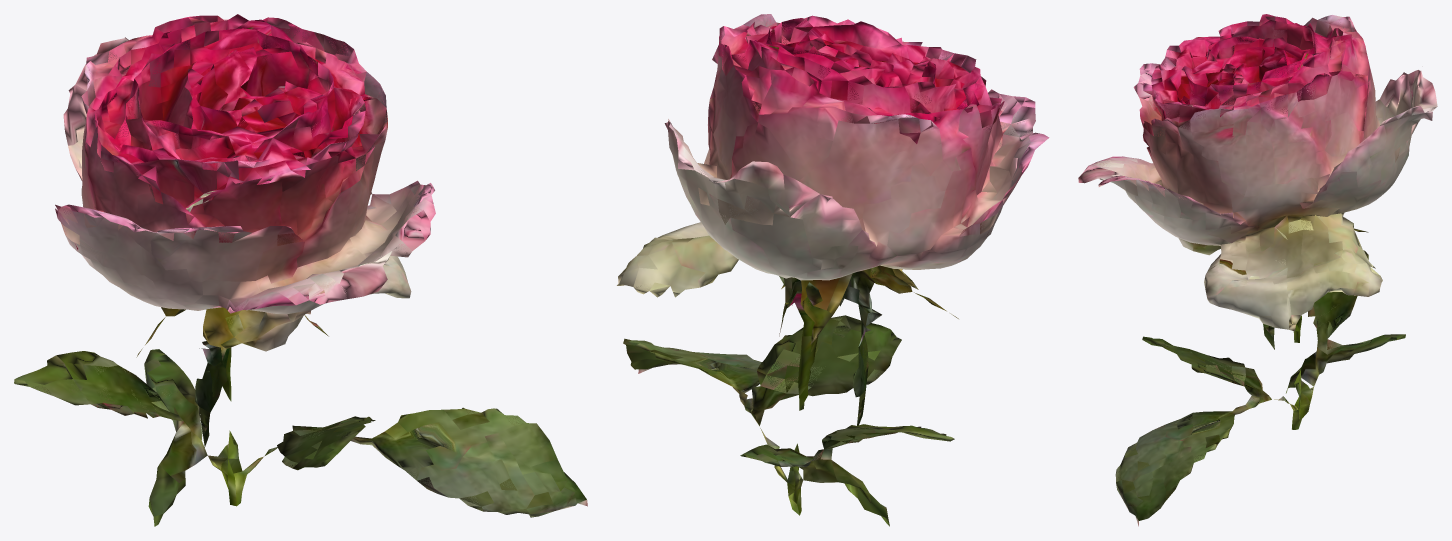
3 views of the same model, side by side, from view 1: azimuth 30°, elevation 25°; view 2: azimuth 150°, elevation 25°; view 3: azimuth 270°, elevation 25° (orthographic). The views are drawn at different scales.
Visible parts, largest first — view 1: 4d91dc7d; view 2: 4d91dc7d; view 3: 4d91dc7d.
Part boxes in pixels (box(x1,y1,x2,y2)): 4d91dc7d: box(14, 14, 587, 526); 4d91dc7d: box(617, 14, 1049, 526); 4d91dc7d: box(1078, 14, 1437, 526).
Bounding box in the file's own units: 0.087 × 0.0867 × 0.0731.
1 material, 1 textured.
